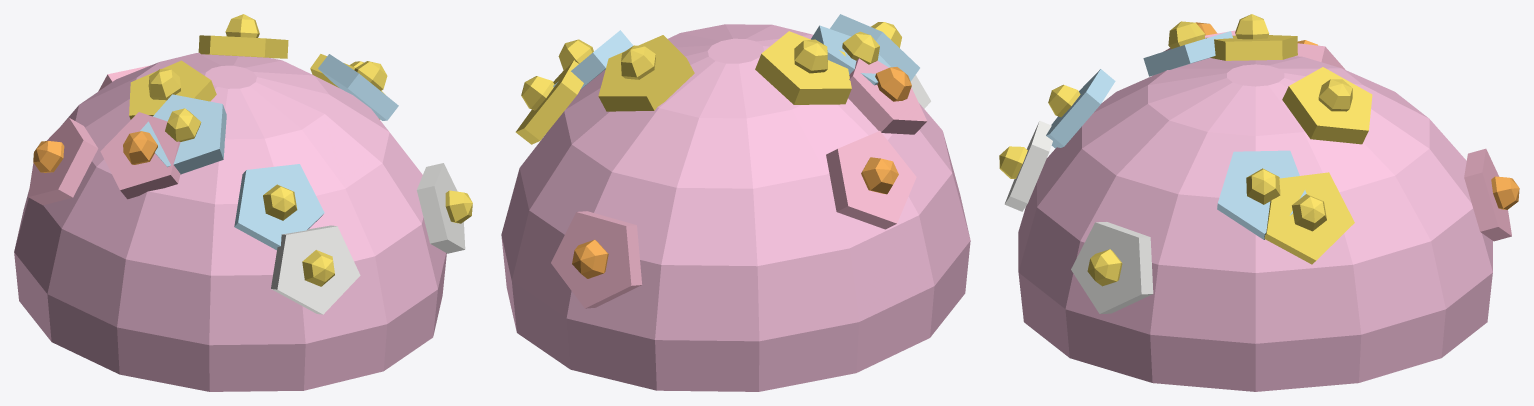
File: CR_GorroBano.fbx
3 renders of one model, left to right at view 1: azimuth 30°, elevation 25°; view 2: azimuth 150°, elevation 25°; view 3: azimuth 270°, elevation 25°, orthographic. The views are drawn at different scales.
Parts seen in each view (by area): view 1: CR_GorroBano; view 2: CR_GorroBano; view 3: CR_GorroBano.
Part boxes in pixels (x1,y1,x2,y2): CR_GorroBano: (14,14,472,391); CR_GorroBano: (501,14,970,391); CR_GorroBano: (999,14,1519,391).
Size of the model in its own units: 0.2697 by 0.1722 by 0.3228.
